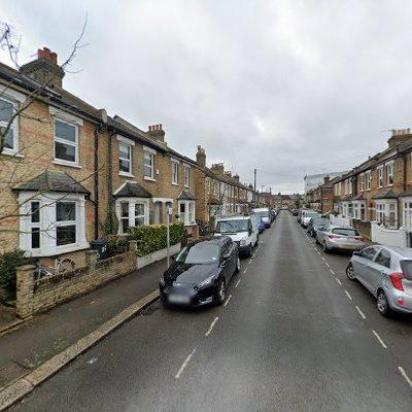stationary-bicycle-offstreet: (28, 254, 76, 290)
stationary-car-onstreet: (156, 235, 242, 319), (346, 243, 412, 319), (315, 223, 365, 254), (306, 217, 332, 236), (256, 216, 265, 232), (293, 208, 299, 216)
stationary-light-truck-onstreet: (213, 214, 259, 260), (252, 207, 270, 228), (302, 208, 318, 228)
